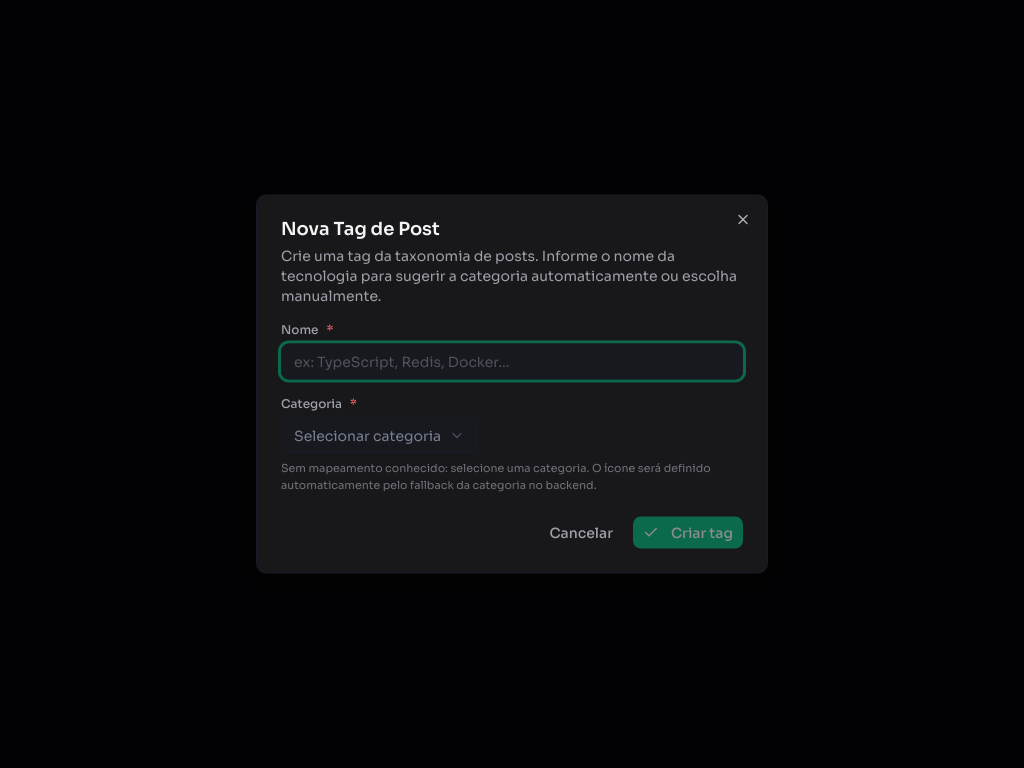
Test: CreateTagDialogForm — name-first flow › auto-detected category correct — PostgreSQL → Banco de Dados
The image size is (1024, 768).
Type "PostgreSQL" into the field labelled "Nome *".
click(512, 362); type("PostgreSQL")  # box [281,344,743,380]
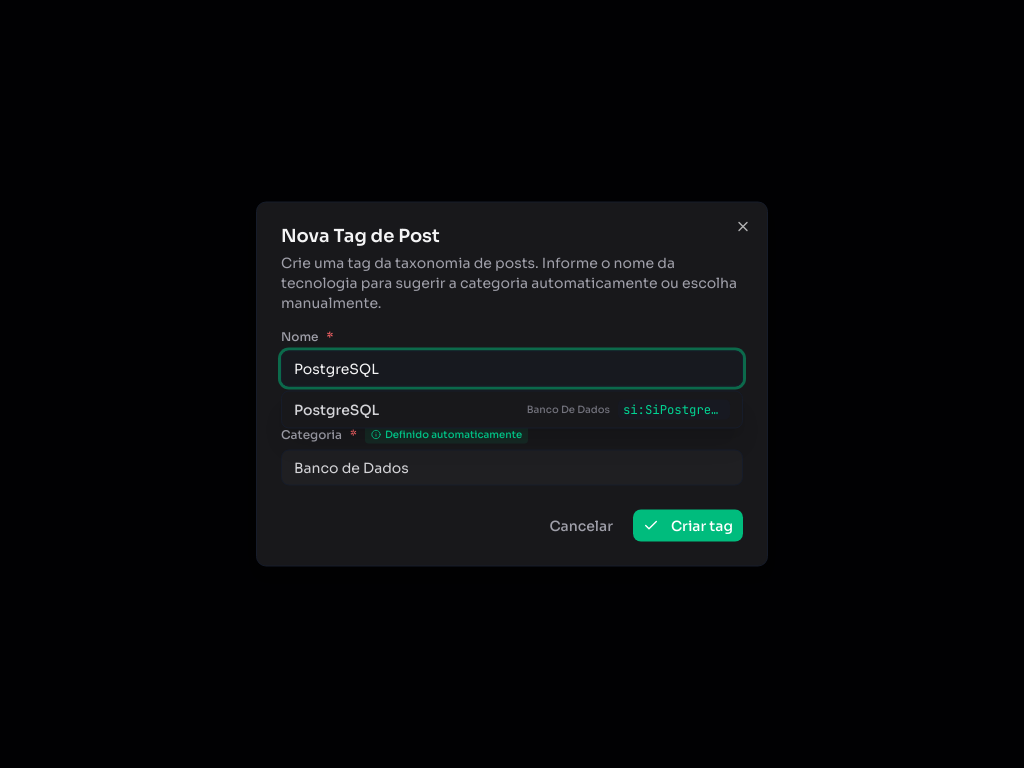
Expected: the text "Definido automaticamente" is shown, [365,424,528,444]
Result: the text named "Categoria definida automaticamente" reads "Banco de Dados" at [294,458,409,476]
